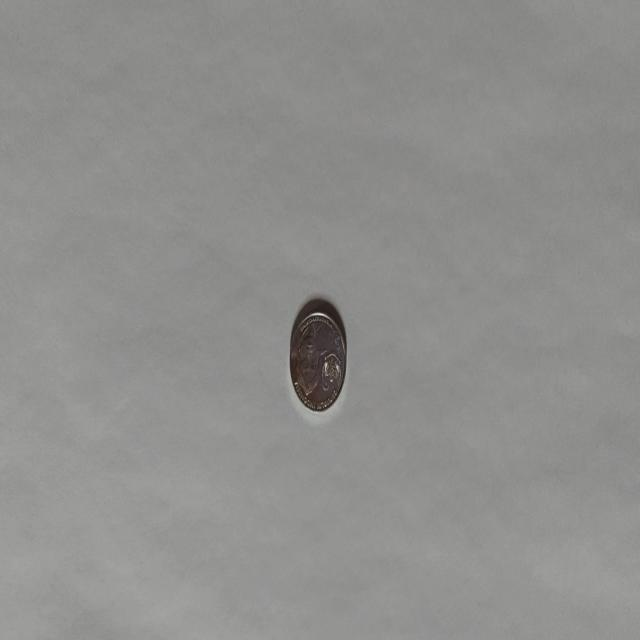dua ratus rupiah: (288, 300, 347, 412)
